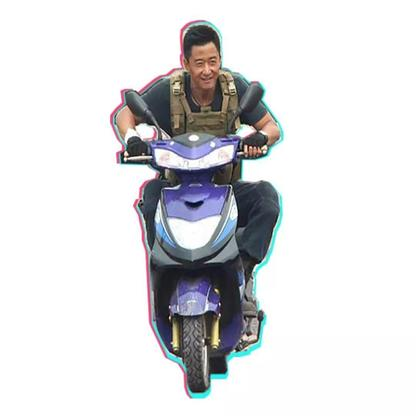target: (108, 18, 287, 403)
